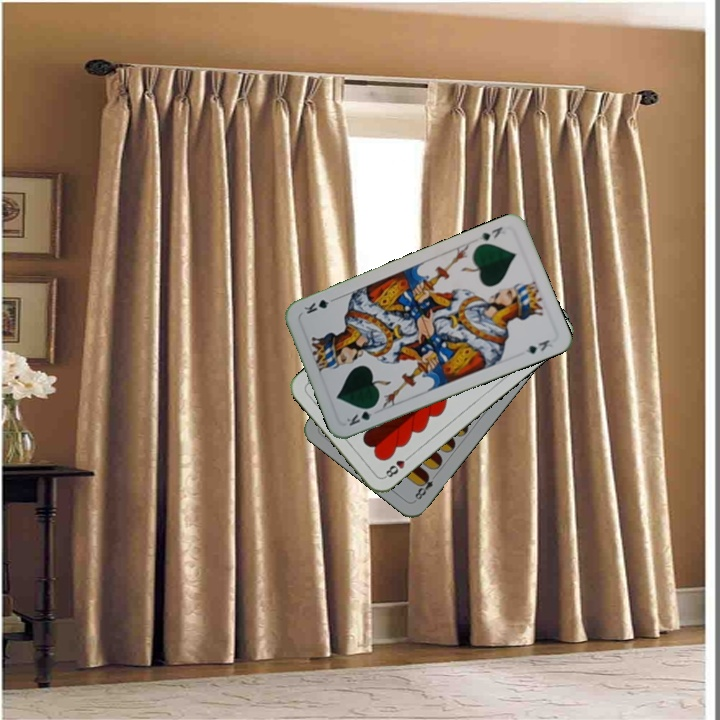E8: (410, 470, 440, 504)
GK: (342, 401, 379, 429), (475, 222, 505, 243)
H8: (380, 450, 414, 481)
